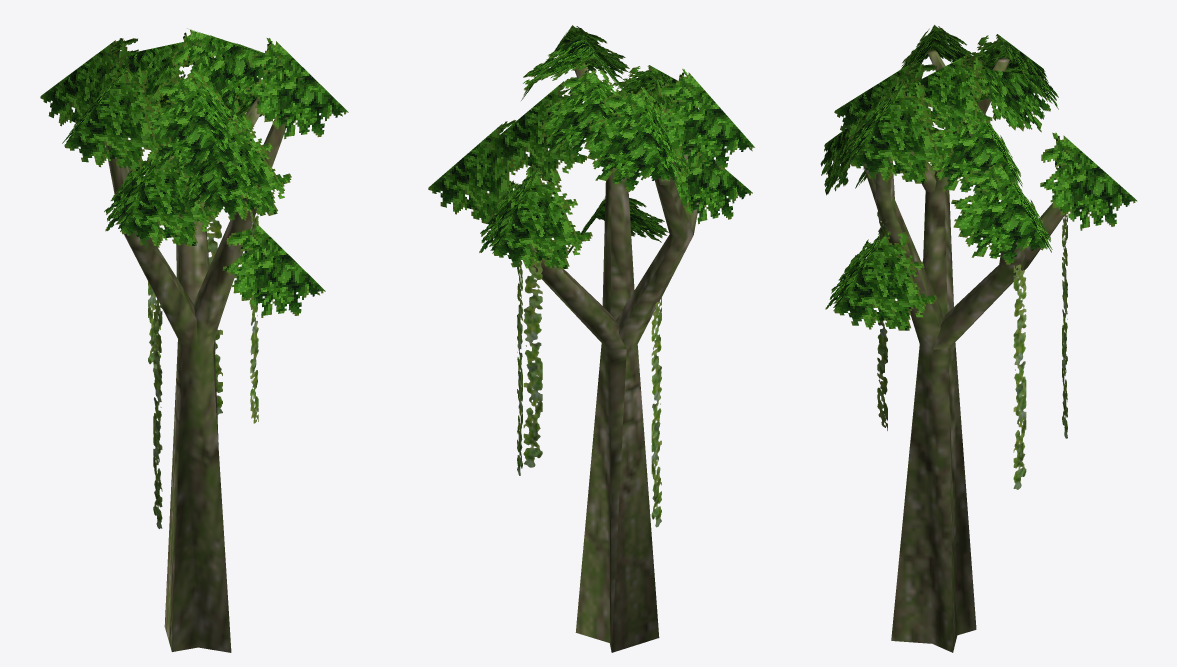
File: tropic_0.obj
3 views of the same model, side by side, from view 1: azimuth 30°, elevation 25°; view 2: azimuth 150°, elevation 25°; view 3: azimuth 270°, elevation 25° (orthographic).
Visible parts, largest first — view 1: tropic_0; view 2: tropic_0; view 3: tropic_0.
Part boxes in pixels (<box>): tropic_0: <box>40,28,348,652</box>; tropic_0: <box>428,25,754,652</box>; tropic_0: <box>820,25,1137,652</box>.
Bounding box in the file's own units: 5.86 × 10.96 × 5.84.
